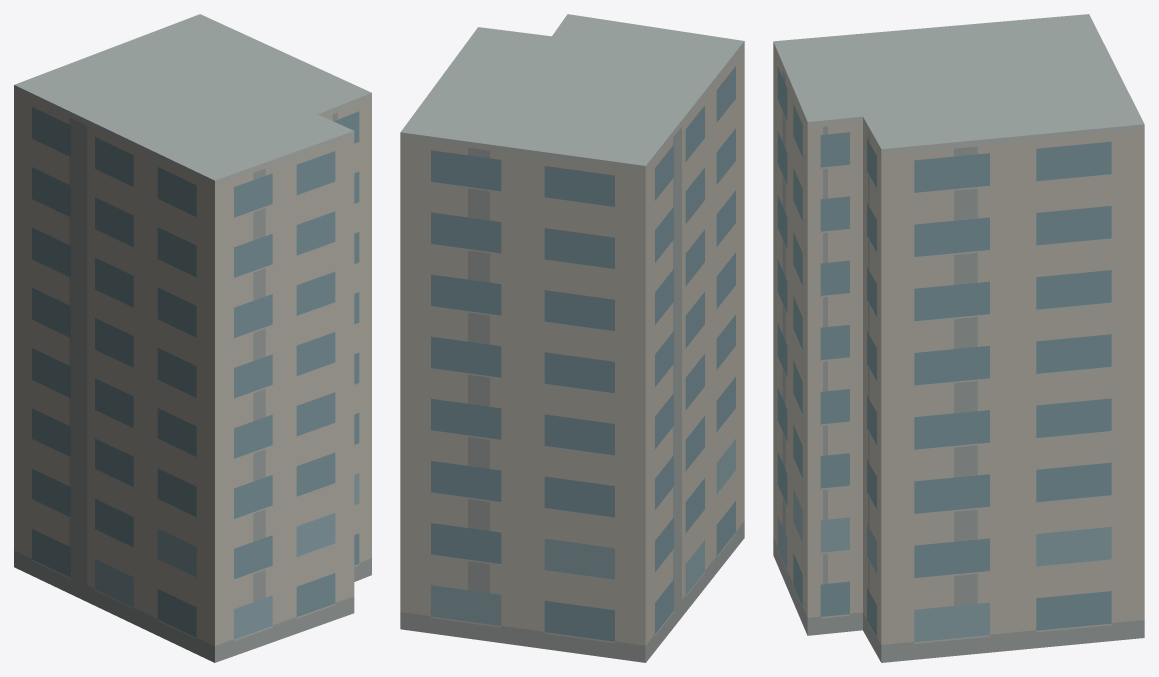
The model's file is survey-upis-32801394.glb.
3 renders of one model, left to right at view 1: azimuth 30°, elevation 25°; view 2: azimuth 150°, elevation 25°; view 3: azimuth 270°, elevation 25°, orthographic. The views are drawn at different scales.
Visible parts, largest first — view 1: survey-upis-32801394.tmp; view 2: survey-upis-32801394.tmp; view 3: survey-upis-32801394.tmp.
Boxes of the visible parts, x1,y1,x2,y2 form: survey-upis-32801394.tmp: [14, 14, 371, 662]; survey-upis-32801394.tmp: [400, 14, 744, 662]; survey-upis-32801394.tmp: [773, 14, 1144, 662].
Size of the model in its own units: 11.25 by 19.9 by 13.05.
